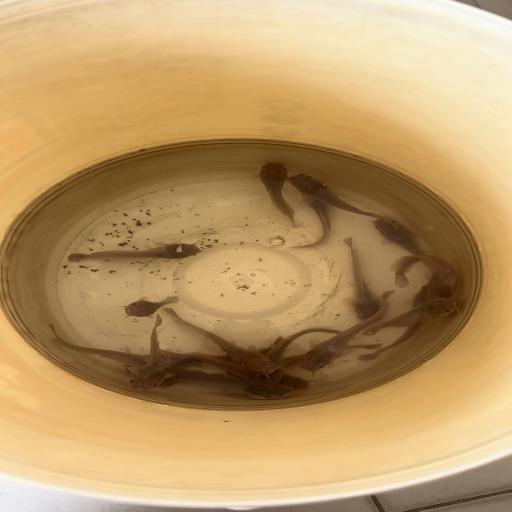lele: (47, 322, 181, 387), (287, 173, 416, 239), (299, 290, 396, 372), (162, 308, 276, 374), (155, 348, 308, 392), (373, 284, 444, 354), (255, 326, 344, 381), (164, 335, 286, 368), (168, 368, 293, 400), (363, 296, 462, 336), (370, 216, 434, 270), (342, 236, 382, 322), (127, 314, 171, 392), (390, 254, 460, 299), (67, 242, 203, 263), (287, 190, 334, 248), (260, 160, 299, 229), (282, 342, 382, 368), (122, 295, 181, 319)
